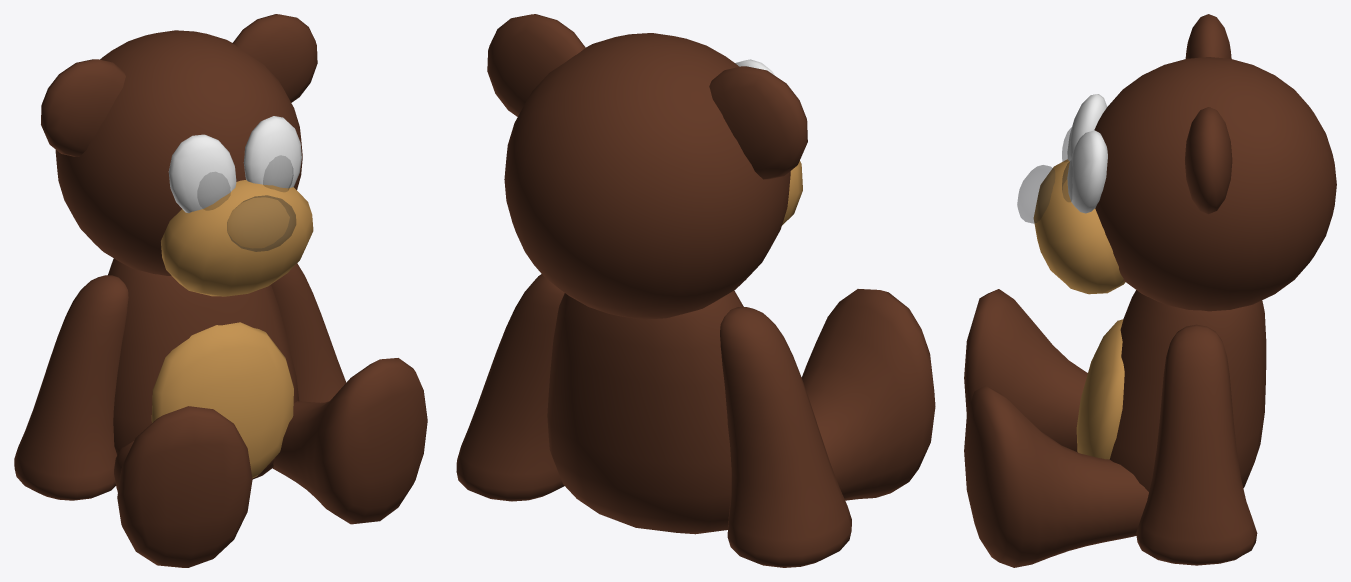
File: teddybear_1.glb
3 renders of one model, left to right at view 1: azimuth 30°, elevation 25°; view 2: azimuth 150°, elevation 25°; view 3: azimuth 270°, elevation 25°, orthographic. The views are drawn at different scales.
Visible parts, largest first — view 1: Cube.016, Roundcube.014, Cube.015, Roundcube.015, Roundcube.020, Plane.056, Roundcube.019, Roundcube.017, Roundcube.016, Roundcube.018; view 2: Roundcube.014, Cube.015, Plane.056, Cube.016, Roundcube.019, Roundcube.015; view 3: Roundcube.014, Cube.016, Cube.015, Plane.056, Roundcube.015, Roundcube.019, Roundcube.020, Roundcube.017, Roundcube.016, Roundcube.018.
Part boxes in pixels (box(x1,y1,x2,y2)): Cube.016: box(114, 358, 427, 567); Roundcube.014: box(55, 30, 302, 275); Cube.015: box(14, 263, 346, 500); Roundcube.015: box(161, 180, 313, 296); Roundcube.020: box(151, 322, 293, 478); Plane.056: box(108, 258, 299, 479); Roundcube.019: box(41, 14, 317, 156); Roundcube.017: box(168, 116, 301, 213); Roundcube.016: box(227, 195, 295, 251); Roundcube.018: box(197, 155, 293, 210); Roundcube.014: box(504, 33, 790, 319); Cube.015: box(456, 274, 851, 567); Plane.056: box(547, 290, 743, 534); Cube.016: box(801, 289, 935, 500); Roundcube.019: box(487, 14, 807, 179); Roundcube.015: box(782, 161, 802, 225); Roundcube.014: box(1094, 57, 1336, 311); Cube.016: box(964, 289, 1148, 567); Cube.015: box(1136, 324, 1257, 565); Plane.056: box(1109, 290, 1266, 491); Roundcube.015: box(1033, 159, 1125, 294); Roundcube.019: box(1185, 14, 1232, 214); Roundcube.020: box(1076, 319, 1124, 459); Roundcube.017: box(1067, 94, 1107, 213); Roundcube.016: box(1017, 165, 1054, 223); Roundcube.018: box(1062, 127, 1072, 201).
Size of the model in its own units: 0.7128 by 0.9146 by 0.6875.
